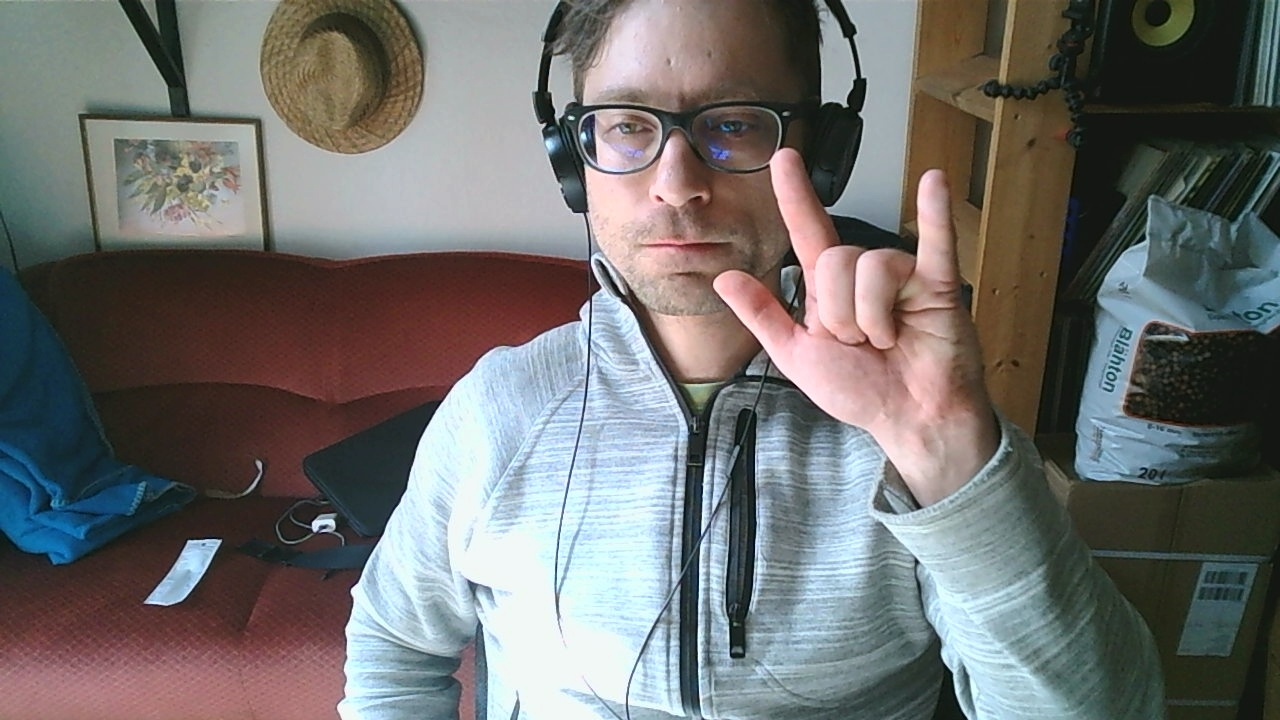iloveyou: (709, 147, 973, 438)
